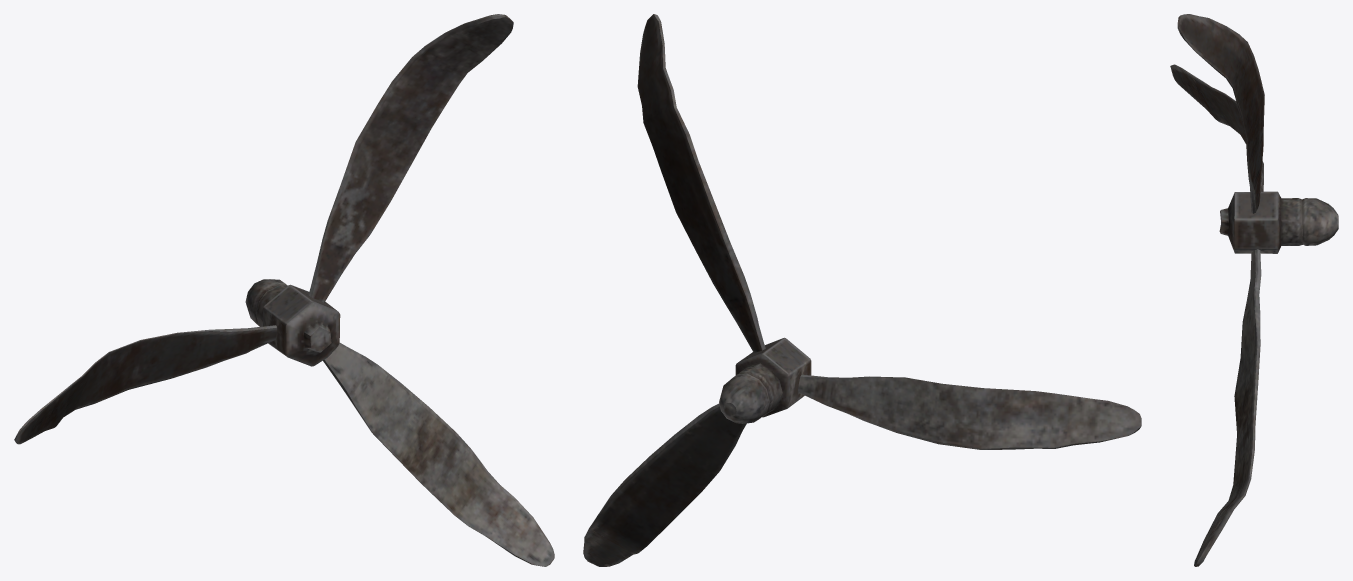
The model's file is plane_wreckage_blades_bended.dae.
3 renders of one model, left to right at view 1: azimuth 30°, elevation 25°; view 2: azimuth 150°, elevation 25°; view 3: azimuth 270°, elevation 25°, orthographic. The views are drawn at different scales.
Parts seen in each view (by area): view 1: a, d, s, base; view 2: s, a, d, base; view 3: a, base, d, s.
Boxes of the visible parts, x1,y1,x2,y2 form: a: [308, 14, 513, 302]; d: [323, 343, 554, 566]; s: [14, 325, 276, 444]; base: [245, 279, 340, 366]; s: [798, 374, 1141, 449]; a: [637, 14, 765, 352]; d: [583, 403, 746, 566]; base: [719, 337, 811, 423]; a: [1177, 14, 1264, 213]; base: [1219, 191, 1338, 253]; d: [1194, 249, 1261, 566]; s: [1170, 64, 1263, 191].
Bounding box in the file's own units: 392 × 385 × 111.
